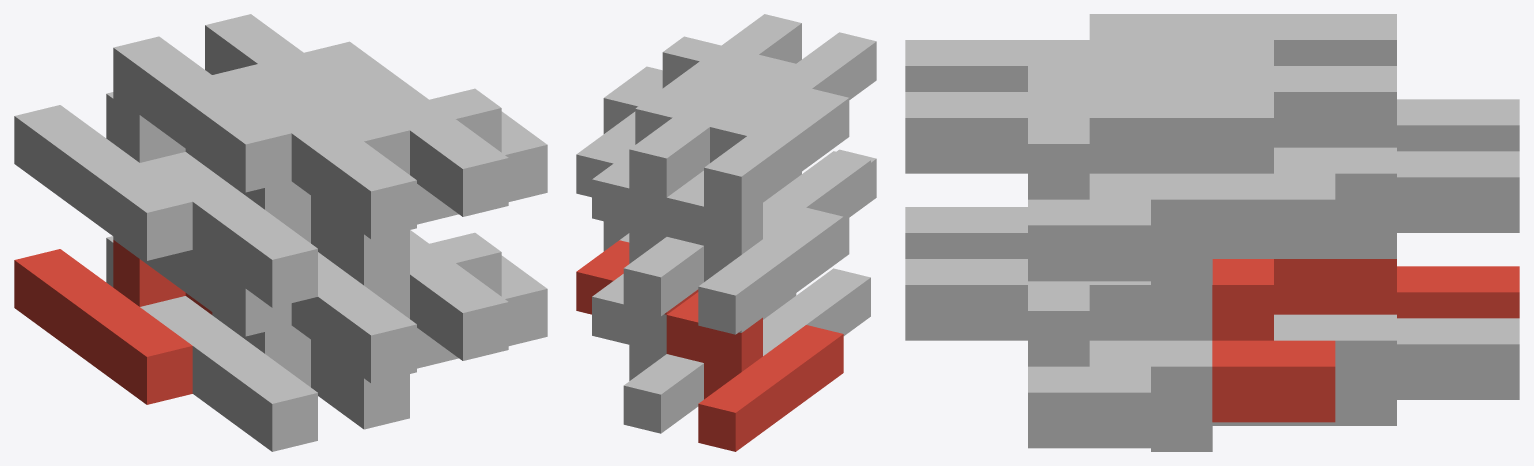
File: tiling.obj
3 renders of one model, left to right at view 1: azimuth 30°, elevation 25°; view 2: azimuth 150°, elevation 25°; view 3: azimuth 270°, elevation 25°, orthographic. The views are drawn at different scales.
Parts seen in each view (by area): view 1: copy_1_domain_3, copy_1_domain_1, copy_2_domain_3, copy_2_domain_8, copy_2_domain_4, copy_1_domain_4, copy_1_domain_2, copy_2_domain_6, copy_2_domain_2, copy_2_domain_7, copy_2_domain_1, copy_1_domain_6 (+1 smaller); view 2: copy_1_domain_3, copy_1_domain_1, copy_2_domain_3, copy_2_domain_7, copy_1_domain_7, copy_1_domain_5, copy_2_domain_8, copy_2_domain_4, copy_1_domain_4, copy_1_domain_2, copy_2_domain_5, copy_2_domain_1 (+2 smaller); view 3: copy_2_domain_8, copy_2_domain_6, copy_2_domain_7, copy_2_domain_5, copy_1_domain_5, copy_1_domain_7, copy_2_domain_3, copy_2_domain_4, copy_1_domain_6, copy_1_domain_8, copy_1_domain_1, copy_1_domain_3 (+1 smaller).
Part boxes in pixels (<box>): copy_1_domain_3: <box>14,96,212,260</box>; copy_1_domain_1: <box>14,240,212,404</box>; copy_2_domain_3: <box>113,36,291,192</box>; copy_2_domain_8: <box>330,61,547,216</box>; copy_2_domain_4: <box>239,83,455,239</box>; copy_1_domain_4: <box>140,152,337,307</box>; copy_1_domain_2: <box>140,296,337,451</box>; copy_2_domain_6: <box>410,230,547,360</box>; copy_2_domain_2: <box>291,252,455,383</box>; copy_2_domain_7: <box>205,14,382,121</box>; copy_2_domain_1: <box>113,236,291,336</box>; copy_1_domain_6: <box>311,343,409,429</box>; copy_1_domain_3: <box>666,170,843,334</box>; copy_1_domain_1: <box>666,292,843,451</box>; copy_2_domain_3: <box>704,88,849,215</box>; copy_2_domain_7: <box>576,70,774,197</box>; copy_1_domain_7: <box>592,152,703,316</box>; copy_1_domain_5: <box>592,274,703,433</box>; copy_2_domain_8: <box>603,14,801,133</box>; copy_2_domain_4: <box>732,32,876,120</box>; copy_1_domain_4: <box>763,151,870,238</box>; copy_1_domain_2: <box>763,268,870,355</box>; copy_2_domain_5: <box>576,240,698,314</box>; copy_2_domain_1: <box>739,215,849,332</box>; copy_2_domain_8: <box>905,92,1212,281</box>; copy_2_domain_6: <box>905,259,1212,448</box>; copy_2_domain_7: <box>1089,66,1396,255</box>; copy_2_domain_5: <box>1212,259,1396,422</box>; copy_1_domain_5: <box>1274,314,1519,425</box>; copy_1_domain_7: <box>1274,147,1519,258</box>; copy_2_domain_3: <box>1089,14,1396,65</box>; copy_2_domain_4: <box>905,40,1212,91</box>; copy_1_domain_6: <box>1089,340,1335,451</box>; copy_1_domain_8: <box>1089,173,1335,284</box>; copy_1_domain_1: <box>1397,266,1519,318</box>; copy_1_domain_3: <box>1397,99,1519,151</box>.
Bounding box in the file's own units: 7 × 6 × 10.
